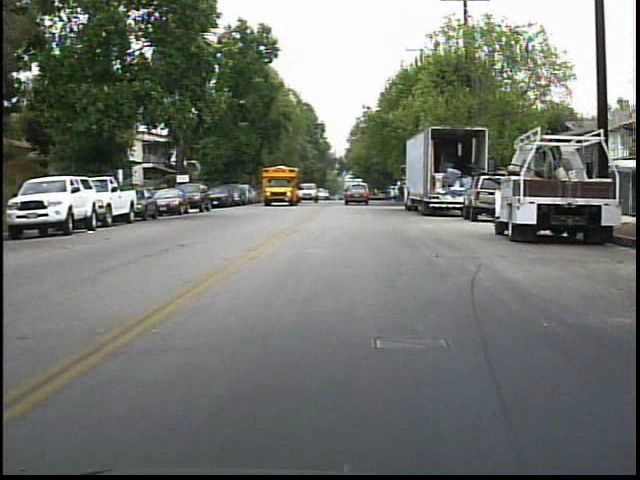person: (393, 176, 410, 209)
